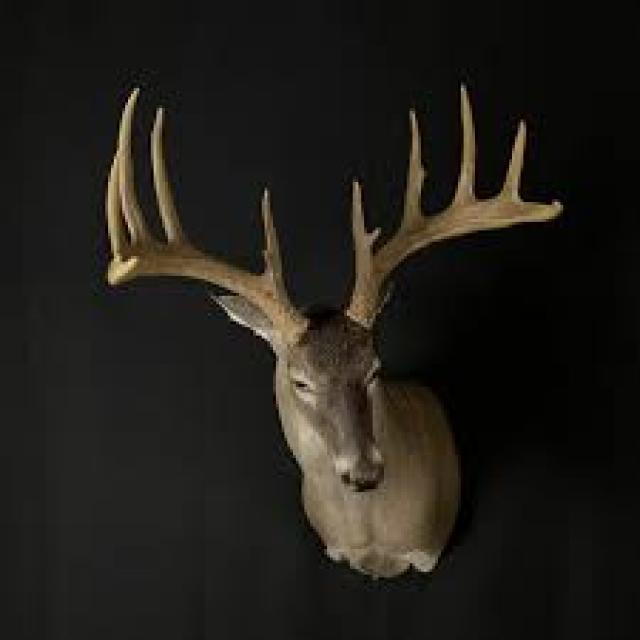E1: (366, 226, 383, 248)
L-G1: (352, 180, 372, 288)
L-G2: (400, 108, 425, 230)
L-G3: (451, 82, 476, 208)
L-G4: (499, 119, 528, 203)
L-R: (348, 201, 564, 328)
R-F: (105, 249, 308, 345)
R-G1: (256, 188, 289, 301)
R-G2: (150, 106, 185, 248)
R-G3: (116, 89, 154, 248)
